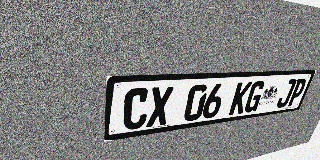0: (183, 84, 209, 122)
6: (201, 83, 227, 119)
C: (122, 87, 150, 131)
G: (243, 81, 267, 113)
J: (275, 79, 297, 108)
K: (228, 82, 253, 115)
P: (286, 78, 308, 107)
X: (146, 86, 174, 127)
